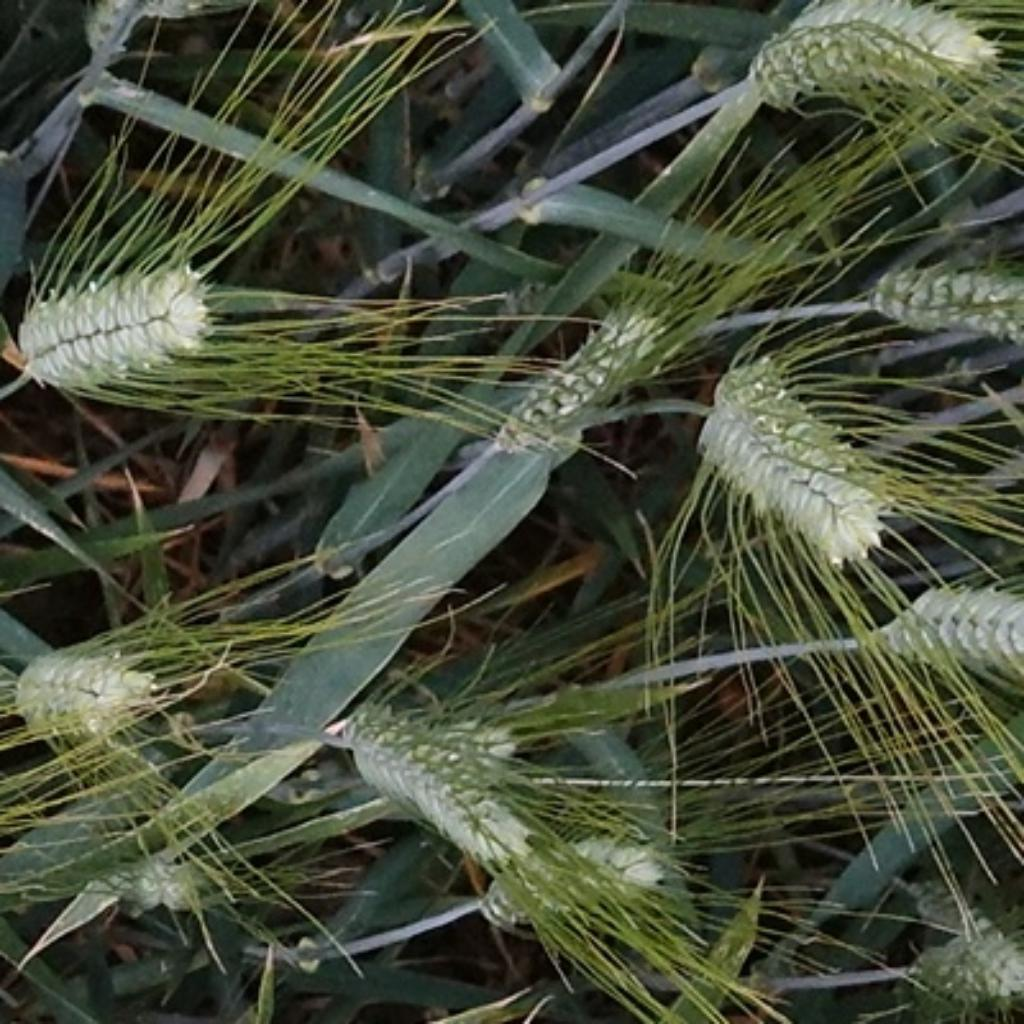0-0: (678, 343, 890, 570), (464, 293, 670, 463), (1, 257, 236, 405), (737, 2, 1007, 123), (340, 703, 522, 866), (481, 821, 670, 936), (844, 238, 1024, 355), (9, 644, 168, 757), (865, 576, 1024, 686), (897, 860, 1017, 971), (904, 933, 1024, 1021), (107, 839, 214, 935), (66, 2, 149, 71)
